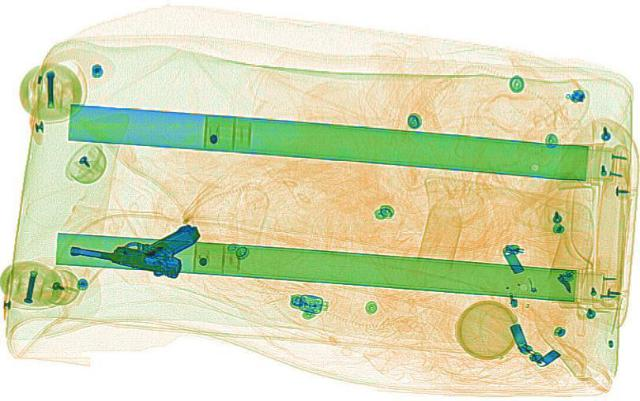Gun: (67, 223, 197, 276)
